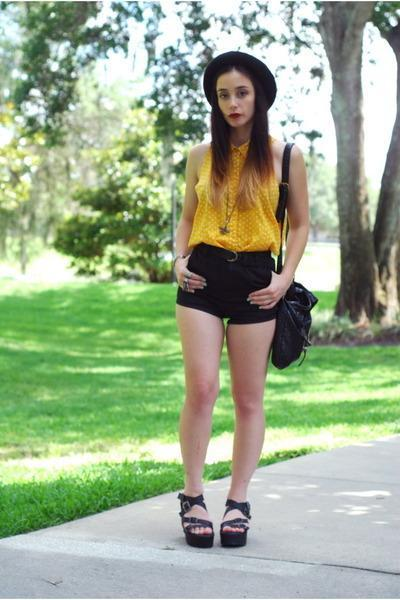bag: (267, 180, 317, 369)
hat: (204, 52, 275, 107)
shirt: (187, 132, 283, 259)
shoe: (173, 492, 251, 549)
shorts: (176, 260, 291, 335)
